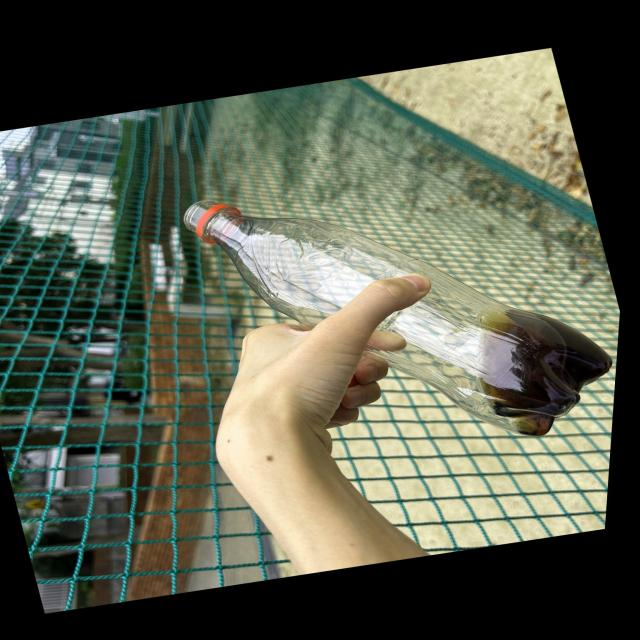low: (184, 201, 611, 436)
